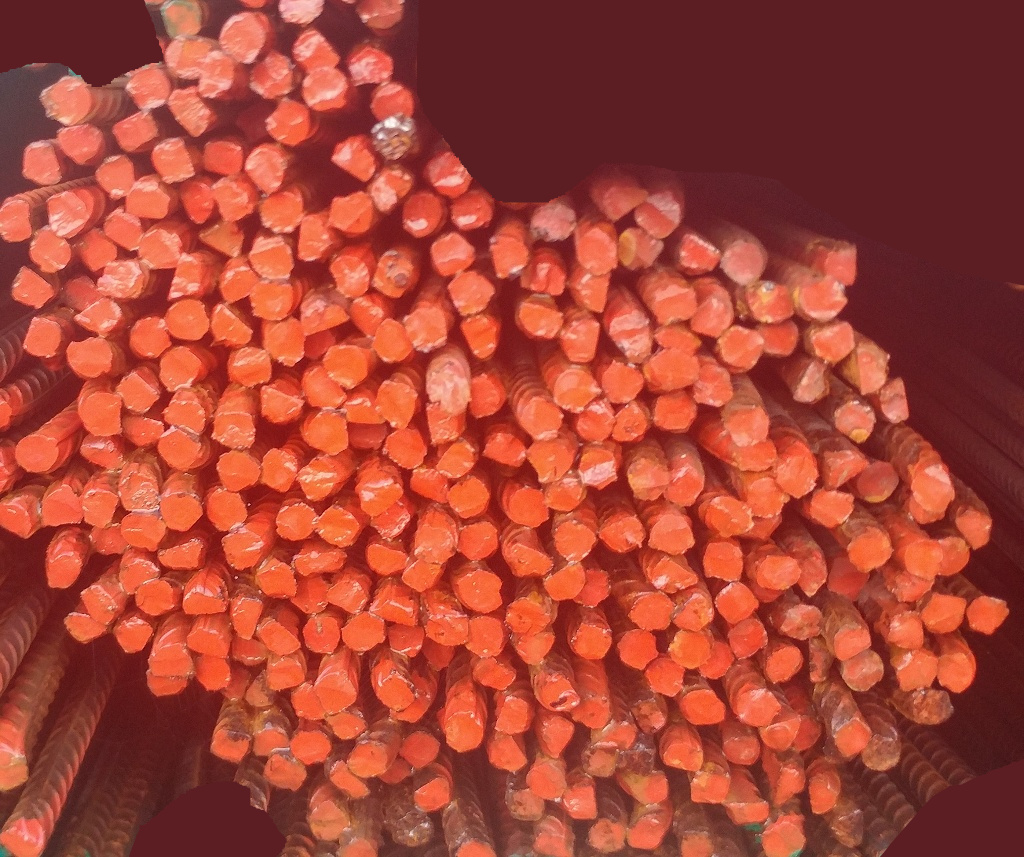dipstick: (42, 76, 92, 125), (647, 349, 698, 391), (515, 295, 563, 338), (637, 192, 680, 238), (306, 409, 349, 455), (169, 91, 208, 141), (247, 54, 293, 96), (458, 569, 503, 611), (648, 513, 693, 555), (450, 273, 495, 315), (616, 229, 660, 271), (221, 16, 262, 60), (166, 300, 210, 341), (47, 191, 87, 236), (526, 442, 571, 482), (611, 312, 651, 357), (576, 229, 615, 275), (330, 192, 372, 234), (811, 322, 855, 362), (715, 583, 759, 623), (292, 31, 337, 70), (802, 280, 848, 318), (166, 37, 207, 79), (307, 800, 349, 841), (304, 368, 347, 408), (531, 203, 575, 242), (379, 380, 414, 429), (372, 165, 409, 211), (270, 100, 307, 146), (56, 126, 102, 163), (67, 339, 113, 376), (914, 465, 951, 511), (375, 251, 411, 298), (251, 238, 292, 279), (555, 521, 596, 562), (349, 46, 391, 86), (247, 149, 285, 193), (430, 156, 470, 197), (160, 348, 200, 389), (43, 486, 83, 527), (448, 479, 489, 519), (603, 363, 644, 403), (653, 393, 694, 433), (723, 243, 763, 284), (128, 66, 167, 108), (923, 593, 965, 632), (217, 452, 260, 490), (826, 560, 869, 598), (302, 72, 347, 108), (706, 499, 751, 535), (332, 141, 372, 181), (555, 371, 595, 411), (627, 460, 667, 500), (401, 193, 440, 234), (154, 140, 193, 181), (214, 181, 253, 222), (212, 305, 253, 344), (372, 121, 414, 159), (326, 347, 368, 385), (409, 308, 447, 350), (316, 507, 358, 545), (433, 235, 475, 273), (849, 533, 891, 571), (160, 494, 203, 531), (563, 318, 599, 362), (505, 597, 550, 632), (762, 822, 807, 857), (856, 345, 888, 394), (76, 299, 122, 333), (271, 320, 305, 366), (140, 229, 180, 268), (251, 282, 291, 321), (834, 403, 874, 442), (114, 112, 156, 149), (259, 194, 301, 231), (414, 526, 456, 563), (629, 593, 672, 629), (207, 492, 246, 531), (859, 463, 898, 502), (728, 619, 767, 658), (31, 234, 71, 272), (160, 430, 200, 468), (722, 330, 762, 368), (750, 283, 788, 323), (653, 288, 694, 325), (24, 143, 60, 185), (214, 412, 256, 448), (86, 393, 122, 435), (375, 320, 411, 362), (341, 615, 383, 651), (738, 690, 780, 726), (682, 690, 725, 725), (121, 516, 166, 549), (78, 231, 117, 269), (317, 674, 356, 712), (509, 488, 547, 527), (674, 594, 713, 632), (331, 256, 368, 296), (121, 373, 158, 413), (386, 431, 426, 468), (545, 563, 585, 600), (445, 711, 481, 752), (457, 522, 498, 558), (262, 449, 297, 491), (602, 517, 644, 552), (483, 432, 526, 466), (298, 461, 336, 499), (430, 374, 468, 412), (97, 155, 134, 194), (120, 473, 159, 510), (223, 532, 262, 569), (778, 459, 815, 498), (704, 543, 743, 580), (843, 653, 882, 690), (162, 1, 202, 37), (793, 363, 829, 403), (11, 270, 52, 305), (263, 756, 305, 790), (602, 186, 645, 219), (912, 690, 955, 723), (200, 51, 230, 98), (448, 196, 492, 228), (694, 368, 732, 405), (672, 630, 710, 667), (899, 653, 937, 690), (969, 596, 1007, 633), (652, 559, 697, 590), (18, 438, 59, 472), (275, 505, 316, 539), (462, 317, 496, 358), (180, 182, 213, 224), (260, 388, 302, 421), (619, 631, 656, 668), (82, 490, 118, 528), (302, 616, 340, 652), (526, 402, 562, 440), (580, 450, 616, 488), (730, 409, 768, 445), (693, 298, 729, 336), (24, 317, 59, 356), (327, 579, 366, 614), (469, 374, 500, 418), (472, 659, 516, 690), (469, 617, 503, 657), (938, 653, 972, 693), (200, 224, 241, 257), (825, 457, 866, 490), (164, 399, 206, 431), (677, 244, 719, 276), (758, 556, 800, 588), (3, 826, 46, 857), (133, 319, 169, 356), (411, 467, 447, 504), (904, 541, 940, 578), (439, 440, 474, 478), (263, 621, 301, 656), (489, 736, 527, 771), (528, 766, 566, 801), (373, 85, 412, 119), (299, 217, 329, 261), (372, 596, 417, 625), (510, 543, 552, 574), (136, 579, 172, 615), (332, 762, 368, 798), (540, 677, 576, 713), (259, 563, 296, 598), (414, 777, 449, 814), (767, 646, 802, 683), (396, 813, 434, 847), (400, 732, 438, 766), (573, 625, 611, 659), (835, 718, 869, 756), (169, 257, 199, 300), (427, 404, 460, 443), (960, 508, 992, 548), (221, 267, 256, 303), (366, 544, 408, 574), (427, 614, 469, 644), (834, 623, 869, 659), (888, 612, 922, 649), (783, 606, 821, 639), (588, 819, 626, 852), (210, 729, 249, 761), (290, 732, 330, 763), (105, 215, 140, 250), (350, 742, 386, 776), (574, 694, 610, 728), (579, 406, 613, 442), (863, 736, 899, 770), (763, 718, 799, 752), (648, 660, 682, 696), (294, 551, 347, 574), (147, 647, 192, 674), (100, 263, 139, 294), (126, 189, 169, 217), (881, 379, 909, 422), (579, 273, 609, 313), (691, 772, 731, 802), (235, 350, 270, 384), (390, 623, 424, 658), (575, 572, 610, 606), (64, 613, 105, 642), (233, 598, 262, 639), (295, 576, 328, 612), (635, 770, 668, 806), (634, 696, 667, 732), (120, 559, 157, 591), (495, 697, 527, 734), (750, 480, 782, 517), (203, 142, 241, 173), (516, 634, 554, 665), (614, 403, 645, 441), (1, 203, 31, 242), (358, 1, 401, 28), (810, 772, 837, 815), (584, 743, 616, 779), (360, 483, 401, 511), (626, 818, 663, 849), (188, 625, 226, 655), (304, 304, 346, 331), (524, 265, 563, 294), (775, 763, 804, 802), (62, 276, 96, 309), (195, 656, 229, 689), (542, 718, 570, 758), (890, 574, 933, 600), (404, 562, 440, 593), (565, 784, 596, 820), (738, 442, 775, 472), (81, 441, 122, 468), (278, 1, 326, 24), (182, 591, 228, 615), (370, 510, 408, 539), (89, 525, 123, 557), (118, 622, 152, 654), (294, 684, 325, 719), (48, 553, 78, 589), (534, 830, 574, 857), (655, 329, 700, 353), (702, 642, 732, 678), (800, 553, 825, 596), (827, 248, 856, 285), (722, 736, 759, 765), (941, 538, 969, 576), (159, 544, 203, 568), (380, 675, 412, 708), (832, 812, 863, 846), (1, 505, 31, 540), (350, 299, 380, 334), (254, 725, 289, 755), (546, 479, 581, 509), (665, 475, 700, 505), (1, 753, 29, 790), (618, 745, 655, 773), (82, 588, 113, 621), (663, 744, 702, 770), (267, 660, 303, 688), (122, 419, 162, 444), (509, 789, 542, 819), (493, 250, 528, 278), (763, 323, 793, 355), (146, 674, 189, 696), (599, 723, 634, 750), (728, 800, 769, 823), (327, 713, 366, 736), (303, 332, 335, 360), (350, 424, 385, 449), (231, 639, 265, 664), (795, 718, 821, 750), (398, 695, 429, 721), (346, 400, 381, 423), (249, 671, 273, 704), (908, 500, 943, 522), (424, 646, 454, 670), (683, 831, 710, 857), (380, 761, 410, 784), (229, 670, 249, 699)
